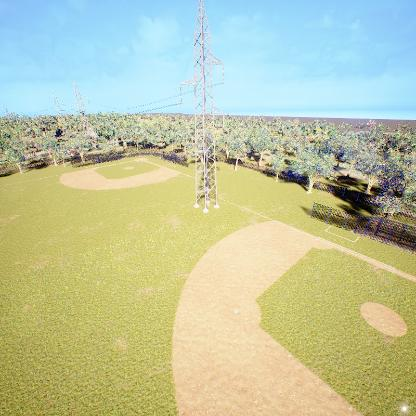tower: (174, 5, 228, 212)
